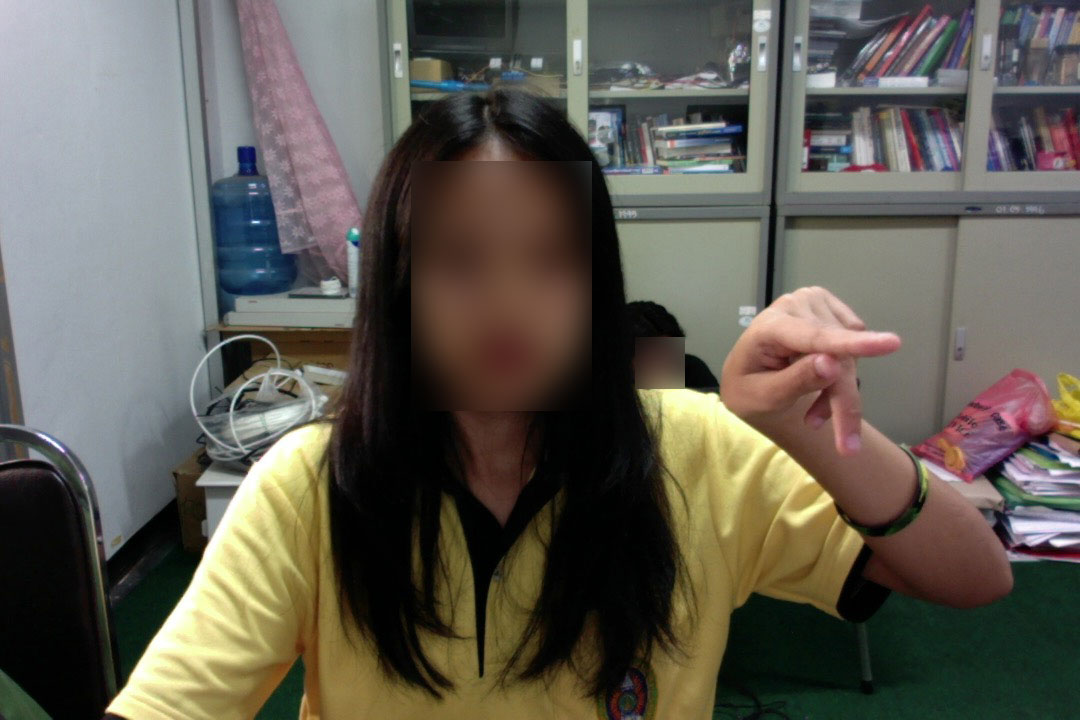por: (716, 273, 906, 459)
